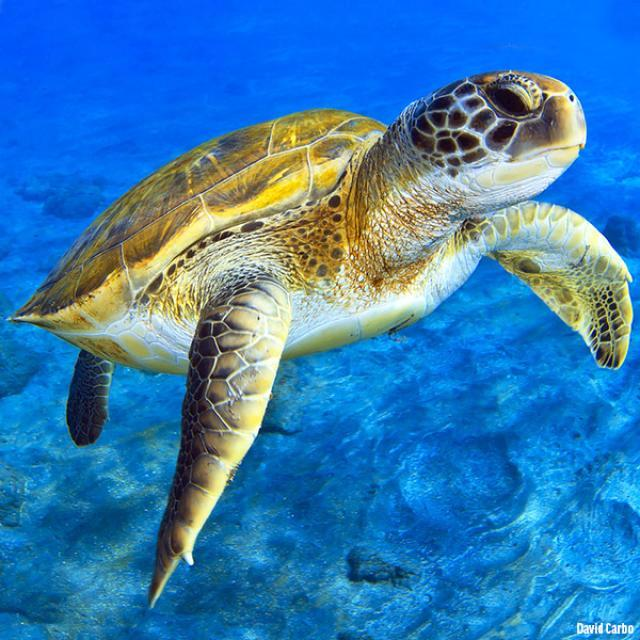Sea turtle: (5, 69, 637, 608)
